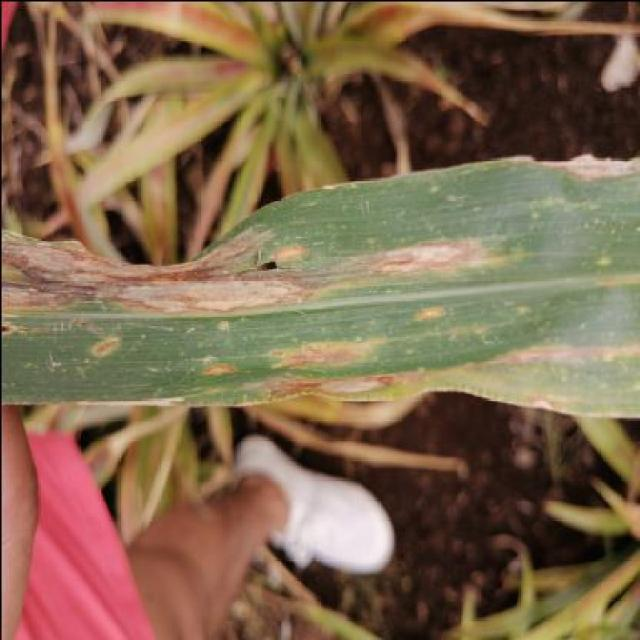Corn_Leaf_Blight: (0, 148, 640, 417)
